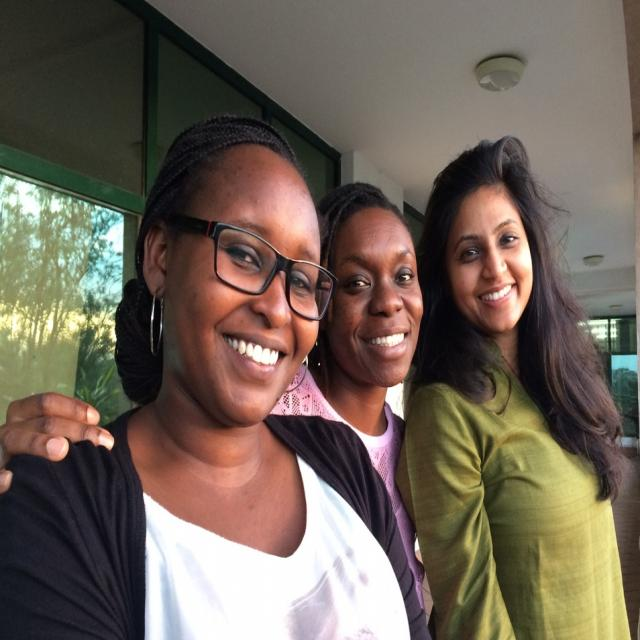Glasses: (162, 216, 324, 304)
